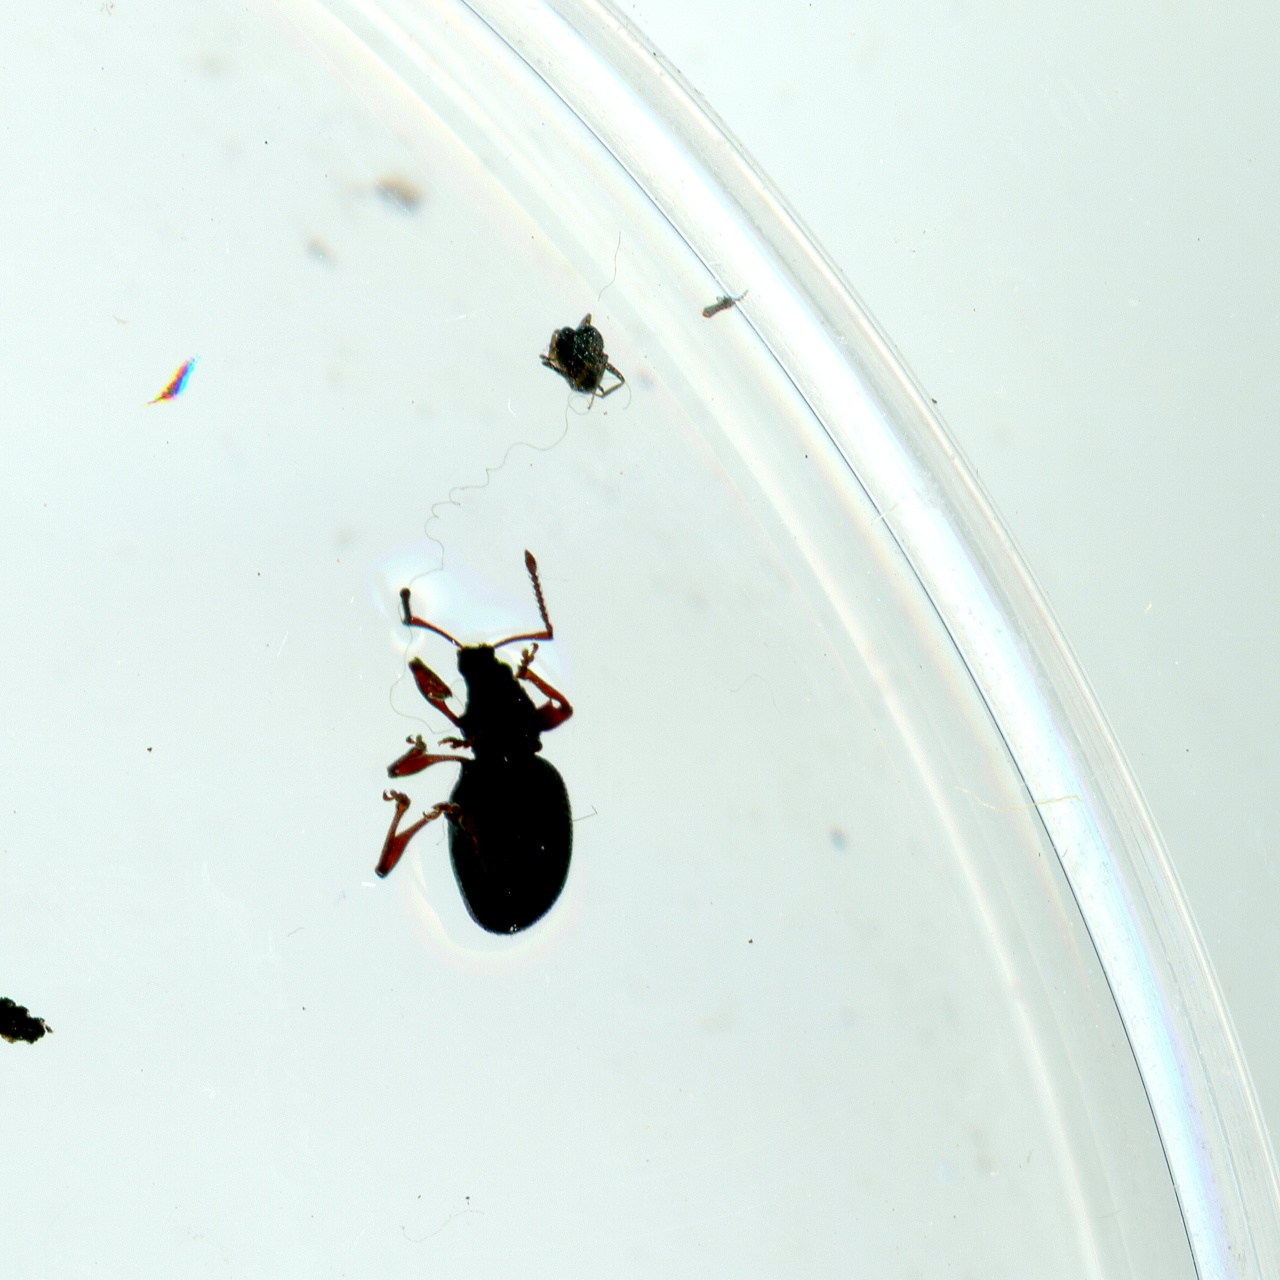arthropod: (369, 545, 578, 942), (138, 348, 205, 411), (697, 284, 755, 324)
